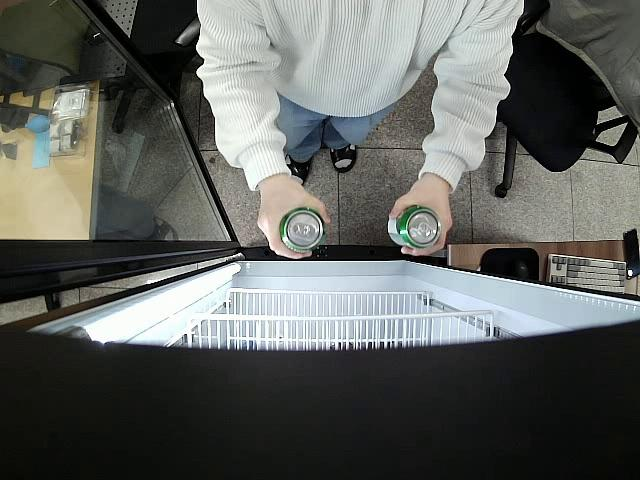00_hand: (258, 183, 331, 259), (389, 185, 453, 258)
12_chilsungCider: (387, 205, 441, 252), (280, 207, 325, 253)
